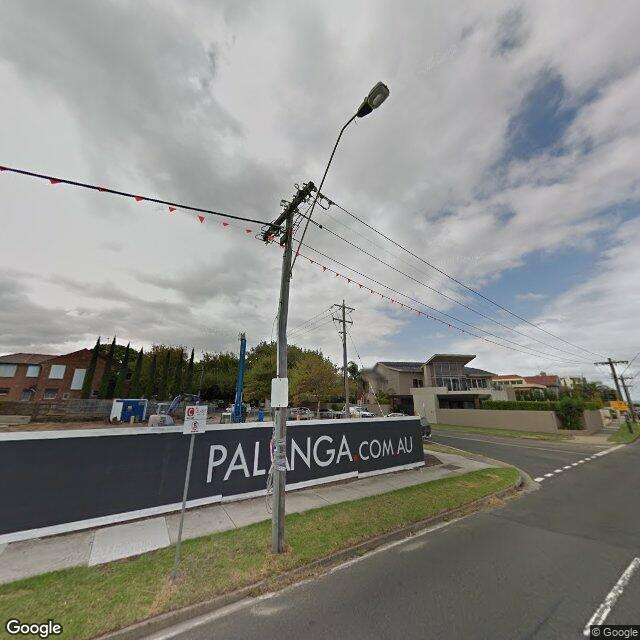crossarm: (263, 181, 315, 241), (594, 360, 628, 366), (334, 304, 355, 311), (333, 317, 353, 323), (620, 384, 634, 388), (611, 377, 633, 379), (338, 331, 347, 334)
streetlight: (286, 81, 391, 282)
timber-pole: (272, 204, 294, 554), (608, 358, 634, 433), (343, 300, 351, 418), (620, 375, 636, 424)
